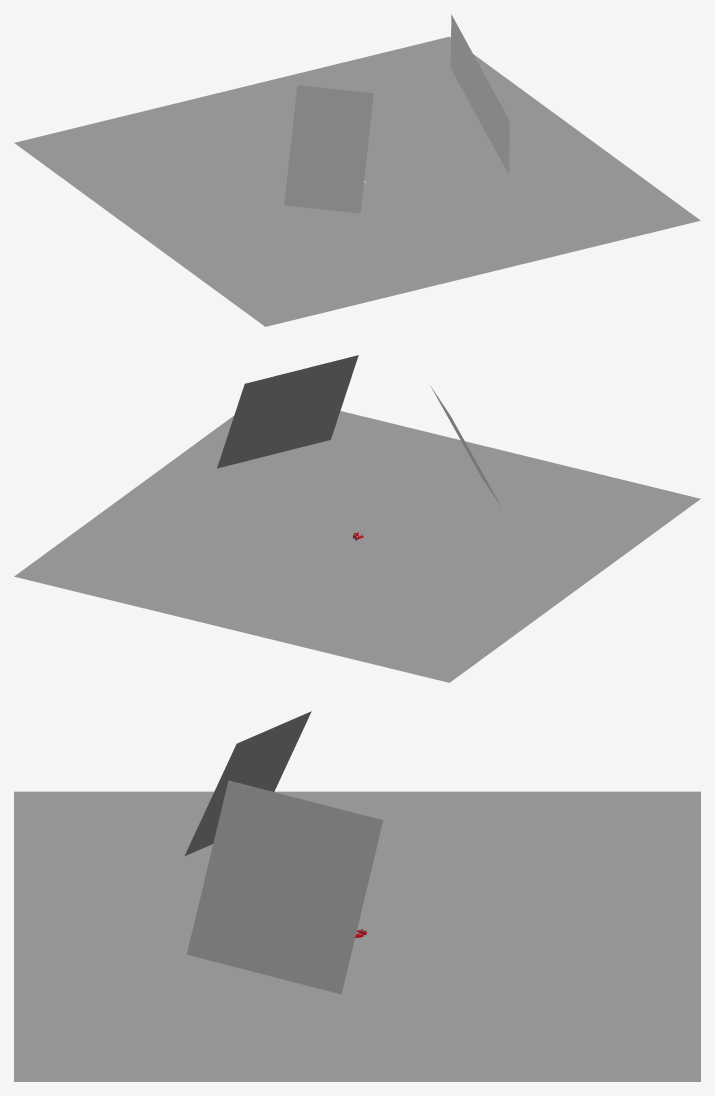
File: sneakers.obj
3 views of the same model, one above another, from view 1: azimuth 30°, elevation 25°; view 2: azimuth 150°, elevation 25°; view 3: azimuth 270°, elevation 25° (orthographic). The views are drawn at different scales.
Visible parts, largest first — view 1: floor_Plane, Light-side_Plane.002, cameralight_Plane.003; view 2: floor_Plane, cameralight_Plane.003; view 3: floor_Plane, cameralight_Plane.003, Light-side_Plane.002.
Part boxes in pixels (x1,y1,x2,y2): floor_Plane: (14, 36, 700, 326); Light-side_Plane.002: (284, 85, 373, 213); cameralight_Plane.003: (450, 14, 509, 174); floor_Plane: (14, 411, 700, 682); cameralight_Plane.003: (217, 355, 358, 468); floor_Plane: (14, 791, 700, 1081); cameralight_Plane.003: (186, 780, 383, 994); Light-side_Plane.002: (184, 711, 311, 856).
Bounding box in the file's own units: 11.6 × 3.48 × 11.6.
